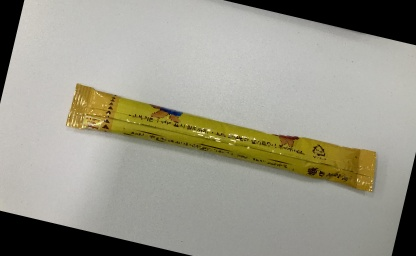jt: (63, 76, 385, 198)
